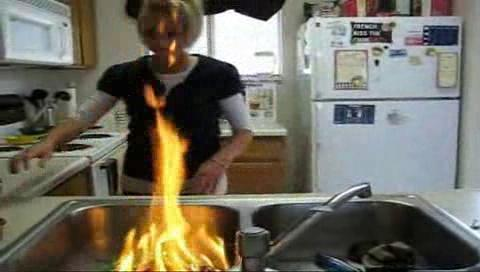fire: (117, 7, 240, 270)
